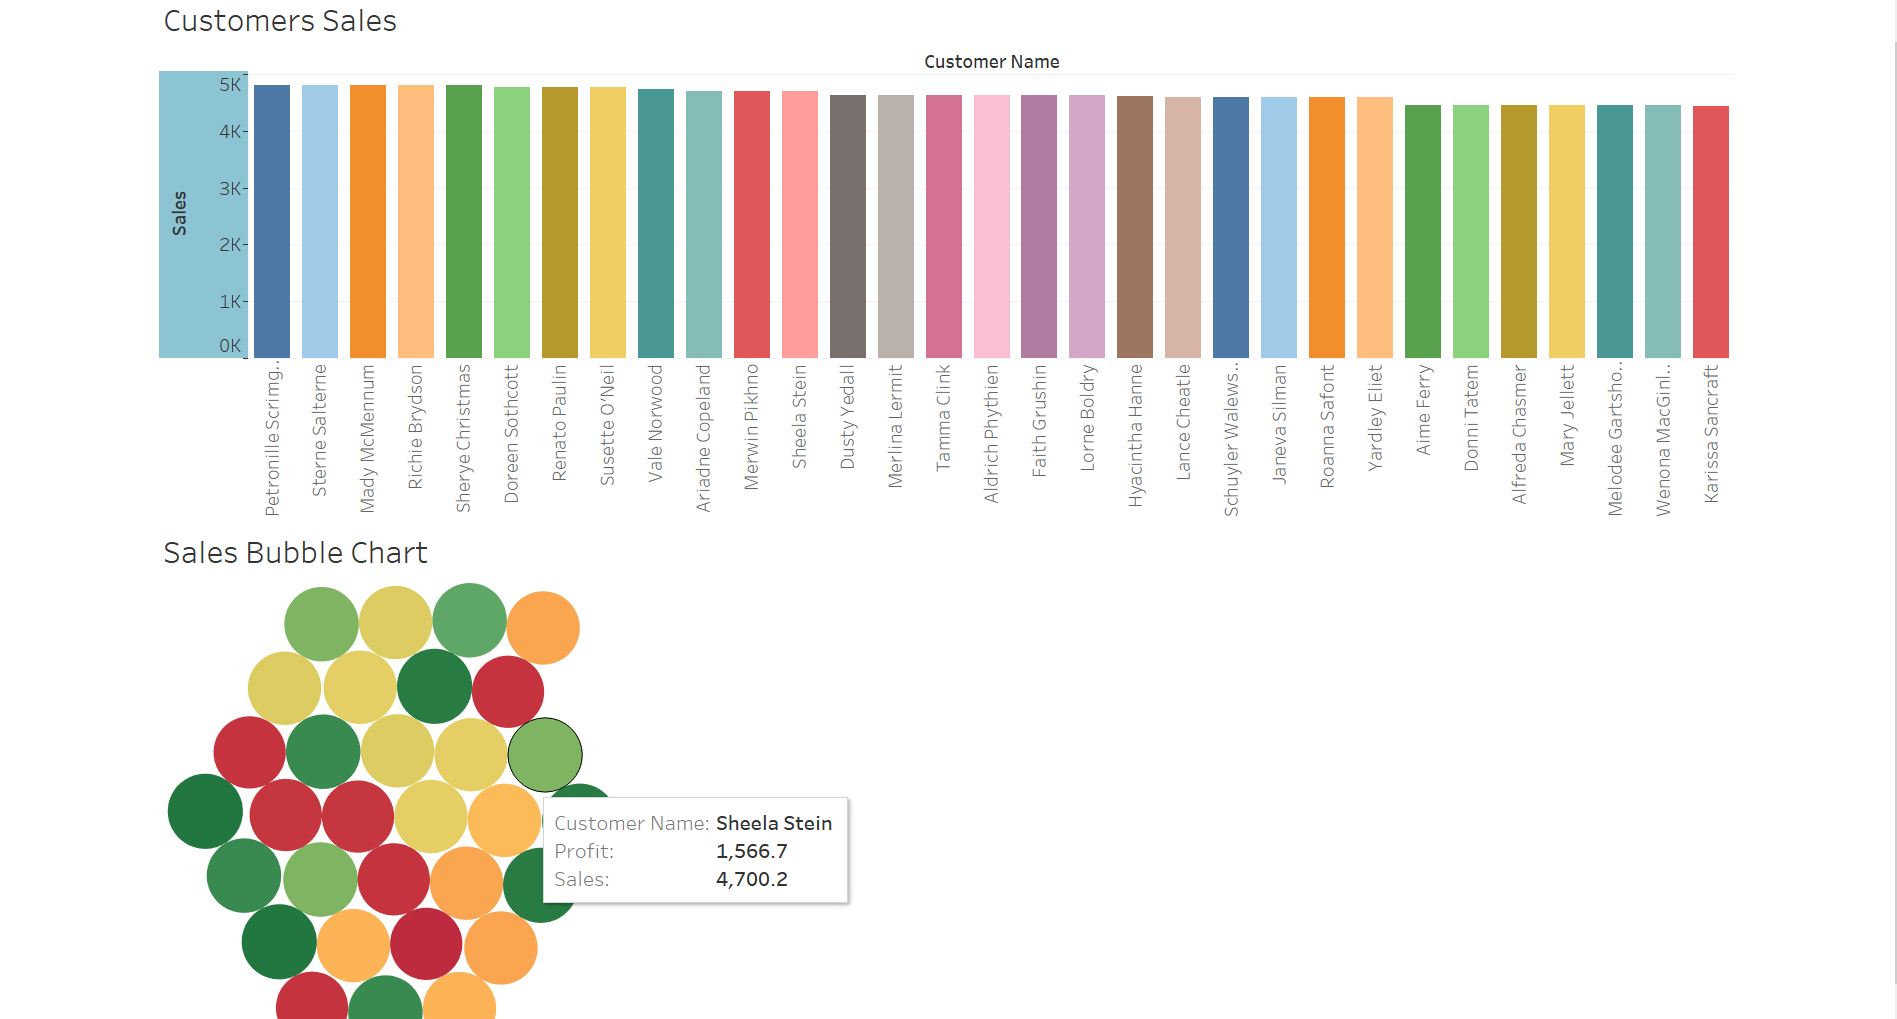

What the dashboard file says about the page in this screenshot:
{"tool":"tableau","page":{"name":"Customer Sales Dashboard","canvas":[1600,1080],"ordinal":0},"visuals":[{"type":"worksheet","title":"Customers Sales","mark":"Automatic","rows":["Sales"],"cols":["Customer Name"],"box":[8,8,1584,532]},{"type":"worksheet","title":"Sales Bubble Chart","mark":"Circle","box":[8,540,1584,532]}]}

Visuals, with their boxes on the page's 1600x1080 design canvas (x1, y1, x2, y2). These are canvas units, not pixel positions in the 1897x1019 screenshot, which may show the page scaled, cropped or inside an application window:
"Customers Sales" worksheet: [8, 8, 1592, 540]
"Sales Bubble Chart" worksheet (Circle marks): [8, 540, 1592, 1072]
